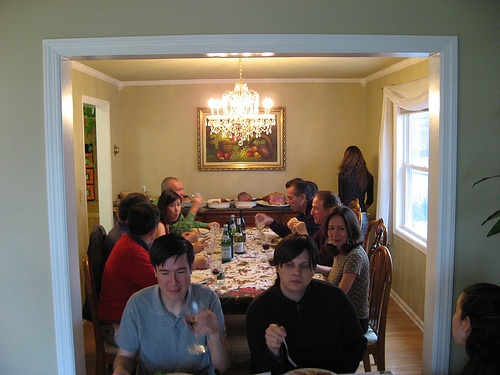tampered: (265, 19, 382, 199)
